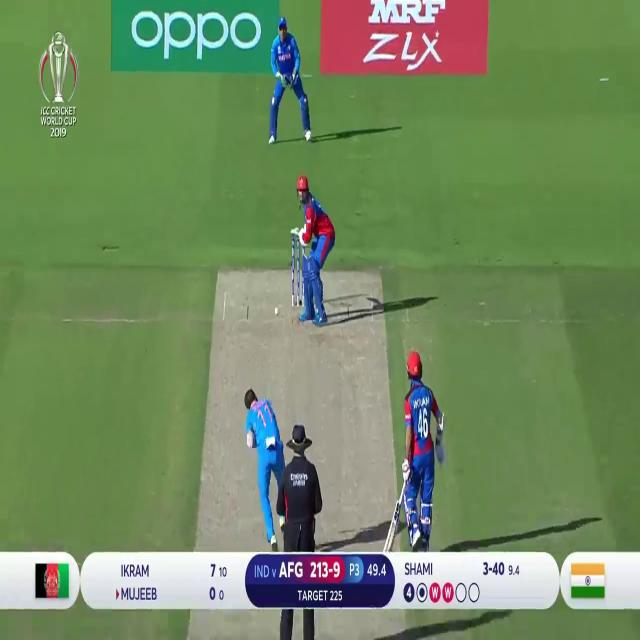ball: (274, 304, 280, 316)
